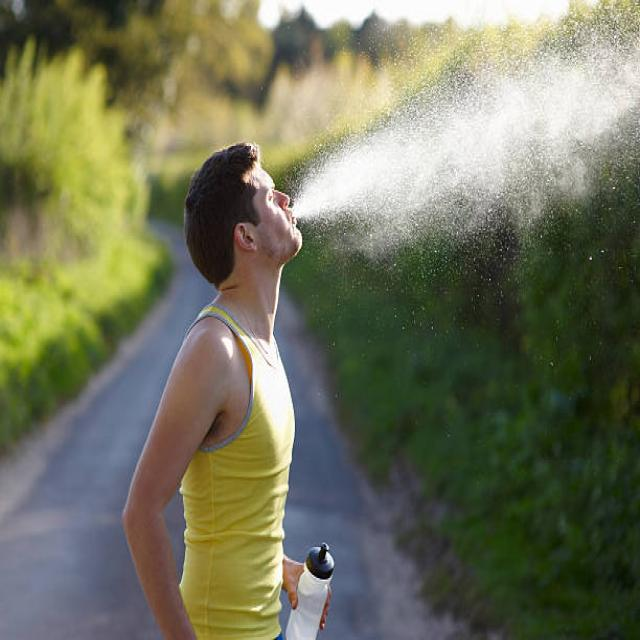Spitting: (181, 128, 362, 409)
